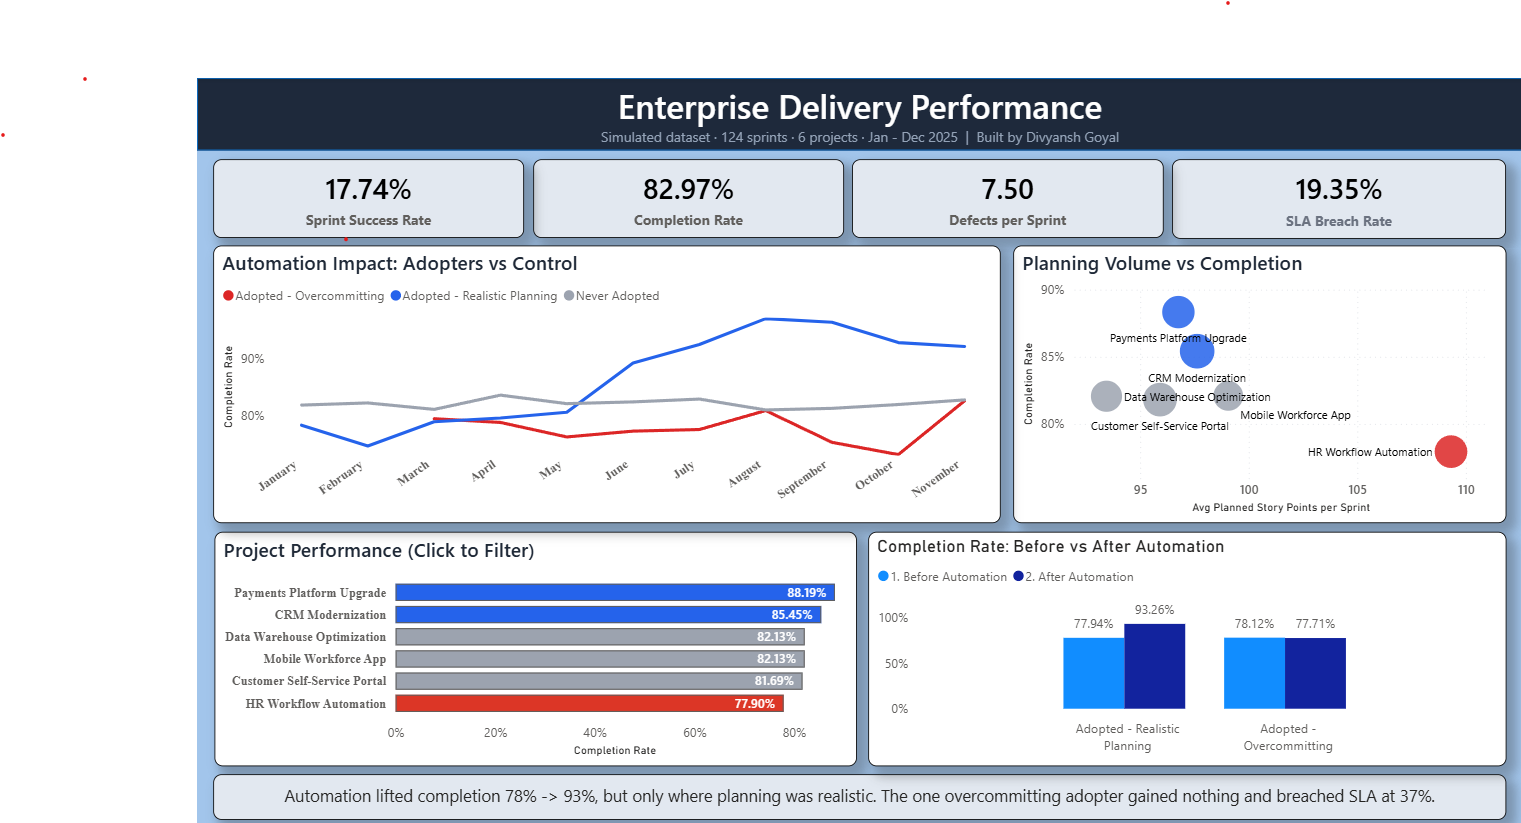

The page's visual inventory and layout, read from the dashboard file:
{"tool":"powerbi","page":{"name":"Delivery Performance","canvas":[1280,720],"ordinal":0},"visuals":[{"type":"card","fields":{"Values":["Automation.Completion Rate"]},"box":[324,78,300,76],"z":0},{"type":"card","fields":{"Values":["Sprints.SLA Breach Rate"]},"box":[940.5,77.9,322.8,76.5],"z":1000},{"type":"card","fields":{"Values":["Automation.Defects per Sprint"]},"box":[632,78,300.8,76],"z":2000},{"type":"barChart","title":"Project Performance (Click to Filter)","fields":{"Category":["Projects.Project_Name"],"Y":["Automation.Completion Rate"]},"box":[16.7,438,620,226],"z":3000},{"type":"scatterChart","title":"Planning Volume vs Completion","fields":{"Y":["Avg(Sprints.Sprint_Completion_Rate)"],"Series":["Projects.Project_Name"],"Size":["Sum(Sprints.Planned_Story_Points)"],"X":["Avg(Sprints.Planned_Story_Points)"]},"box":[788,162,476,268],"z":4000},{"type":"card","fields":{"Values":["Automation.Sprint Success Rate"]},"box":[16,78,300,76],"z":5000},{"type":"lineChart","title":"Automation Impact: Adopters vs Control","fields":{"Y":["Automation.Completion Rate"],"Series":["Projects.Adoption_Group"],"Category":["Sprints.Sprint_Start.Variation.Date Hierarchy.Month"]},"box":[16,162,760,268],"z":6000},{"type":"textbox","box":[16,672,1248,44],"z":7000},{"type":"shape","box":[0,0,1280,70],"z":8000},{"type":"textbox","box":[0,0,1280,70],"z":9000},{"type":"clusteredColumnChart","title":"Completion Rate: Before vs After Automation","fields":{"Category":["Projects.Adoption_Group"],"Y":["Automation.Completion Rate"],"Series":["Sprints.Automation_Phase"]},"box":[648.3,438,616.3,226],"z":10000},{"type":"textbox","box":[0,42.2,1280,27.7],"z":11000}]}

Visuals, with their boxes on the page's 1280x720 design canvas (x1, y1, x2, y2). These are canvas units, not pixel positions in the 1521x823 screenshot, which may show the page scaled, cropped or inside an application window:
card - Automation.Completion Rate: (x1=324, y1=78, x2=624, y2=154)
card - Sprints.SLA Breach Rate: (x1=940, y1=78, x2=1263, y2=154)
card - Automation.Defects per Sprint: (x1=632, y1=78, x2=933, y2=154)
"Project Performance (Click to Filter)" barChart: (x1=17, y1=438, x2=637, y2=664)
"Planning Volume vs Completion" scatterChart: (x1=788, y1=162, x2=1264, y2=430)
card - Automation.Sprint Success Rate: (x1=16, y1=78, x2=316, y2=154)
"Automation Impact: Adopters vs Control" lineChart: (x1=16, y1=162, x2=776, y2=430)
textbox: (x1=16, y1=672, x2=1264, y2=716)
shape: (x1=0, y1=0, x2=1280, y2=70)
textbox: (x1=0, y1=0, x2=1280, y2=70)
"Completion Rate: Before vs After Automation" clusteredColumnChart: (x1=648, y1=438, x2=1265, y2=664)
textbox: (x1=0, y1=42, x2=1280, y2=70)
